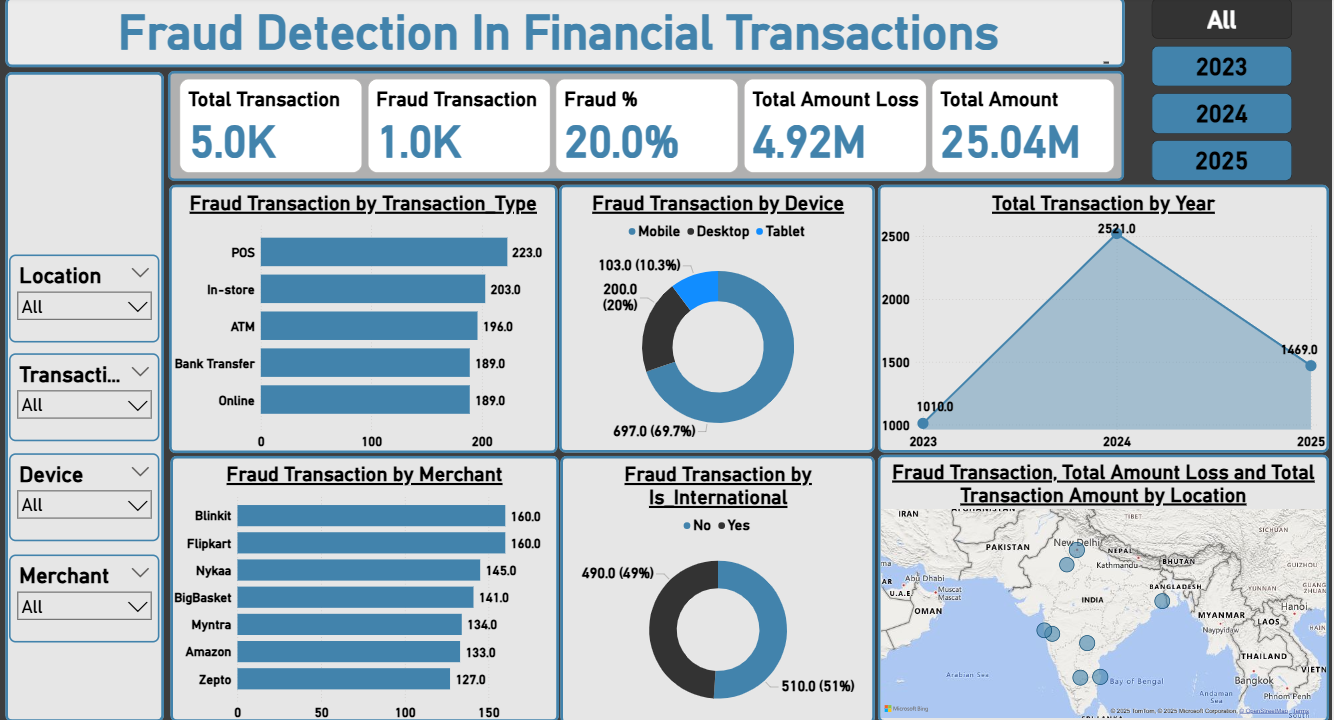

What the dashboard file says about the page in this screenshot:
{"tool":"powerbi","page":{"name":"Page 1","canvas":[2000,1100],"ordinal":0},"visuals":[{"type":"shape","box":[253.8,110.9,1434.5,165.4],"z":0},{"type":"cardVisual","fields":{"Data":["DAX_section.Total Transaction","DAX_section.Fraud Transaction","DAX_section.fraud %","DAX_section.Total Amount Loss","DAX_section.Total Transaction Amount"]},"box":[259.4,110.9,1428.8,165.4],"z":1000},{"type":"shape","box":[9.4,112.5,238.1,974.8],"z":2000},{"type":"shape","box":[254.9,281.2,583,403],"z":3000},{"type":"shape","box":[256.8,688,583,399.3],"z":4000},{"type":"shape","box":[840.4,282,473.8,402.3],"z":5000},{"type":"shape","box":[1317.9,282,676.8,402.3],"z":6000},{"type":"shape","box":[1317.9,686.2,676.8,402.3],"z":7000},{"type":"shape","box":[842.3,688.1,471.9,402.3],"z":8000},{"type":"barChart","fields":{"Category":["Fraud_detection_dataset.Transaction_Type"],"Y":["DAX_section.Fraud Transaction"]},"box":[257.6,282,579.1,402.3],"z":9000},{"type":"donutChart","fields":{"Category":["Fraud_detection_dataset.Device"],"Y":["DAX_section.Fraud Transaction"]},"box":[844.1,282,470,402.3],"z":10000},{"type":"areaChart","fields":{"Category":["Fraud_detection_dataset.Transaction_Date.Variation.Date Hierarchy.Year","Fraud_detection_dataset.Transaction_Date.Variation.Date Hierarchy.Quarter","Fraud_detection_dataset.Transaction_Date.Variation.Date Hierarchy.Month","Fraud_detection_dataset.Transaction_Date.Variation.Date Hierarchy.Day"],"Y":["DAX_section.Total Transaction"]},"box":[1317.9,282,676.8,402.3],"z":11000},{"type":"map","fields":{"Category":["Fraud_detection_dataset.Location"],"Size":["DAX_section.Fraud Transaction"]},"box":[1317.9,684.3,676.8,402.3],"z":12000},{"type":"donutChart","fields":{"Y":["DAX_section.Fraud Transaction"],"Category":["Fraud_detection_dataset.Is_International"]},"box":[844.1,688.1,470,402.3],"z":13000},{"type":"barChart","fields":{"Category":["Fraud_detection_dataset.Merchant"],"Y":["DAX_section.Fraud Transaction"]},"box":[257.6,688.1,582.8,402.3],"z":14000},{"type":"shape","box":[9.4,0,1678.9,105.3],"z":15000},{"type":"textbox","title":"Fraud Detection In Financial Transactions","box":[9.4,0,1660.1,105.3],"z":16000},{"type":"slicer","fields":{"Values":["Fraud_detection_dataset.Location"]},"box":[15,385.4,225.6,131.6],"z":17000},{"type":"slicer","fields":{"Values":["Fraud_detection_dataset.Transaction_Type"]},"box":[15,533.9,225.6,131.6],"z":18000},{"type":"slicer","fields":{"Values":["Fraud_detection_dataset.Device"]},"box":[15,684.3,225.6,131.6],"z":19000},{"type":"slicer","fields":{"Values":["Fraud_detection_dataset.Merchant"]},"box":[15,836.6,225.6,131.6],"z":20000},{"type":"bookmarkNavigator","box":[1727.9,1.9,211.9,274.1],"z":20001}]}

Visuals, with their boxes in screenshot pixels (x1, y1, x2, y2), scaled from the page's 2000x1100 canvas onto the 1334x720 screenshot:
shape: bbox(169, 73, 1126, 181)
cardVisual - DAX_section.Total Transaction x DAX_section.Fraud Transaction: bbox(173, 73, 1126, 181)
shape: bbox(6, 74, 165, 712)
shape: bbox(170, 184, 559, 448)
shape: bbox(171, 450, 560, 712)
shape: bbox(561, 185, 877, 448)
shape: bbox(879, 185, 1330, 448)
shape: bbox(879, 449, 1330, 712)
shape: bbox(562, 450, 877, 714)
barChart - Fraud_detection_dataset.Transaction_Type x DAX_section.Fraud Transaction: bbox(172, 185, 558, 448)
donutChart - Fraud_detection_dataset.Device x DAX_section.Fraud Transaction: bbox(563, 185, 877, 448)
areaChart - Fraud_detection_dataset.Transaction_Date.Variation.Date Hierarchy.Year x Fraud_detection_dataset.Transaction_Date.Variation.Date Hierarchy.Quarter: bbox(879, 185, 1330, 448)
map - Fraud_detection_dataset.Location x DAX_section.Fraud Transaction: bbox(879, 448, 1330, 711)
donutChart - DAX_section.Fraud Transaction x Fraud_detection_dataset.Is_International: bbox(563, 450, 877, 714)
barChart - Fraud_detection_dataset.Merchant x DAX_section.Fraud Transaction: bbox(172, 450, 561, 714)
shape: bbox(6, 0, 1126, 69)
"Fraud Detection In Financial Transactions" textbox: bbox(6, 0, 1114, 69)
slicer - Fraud_detection_dataset.Location: bbox(10, 252, 160, 338)
slicer - Fraud_detection_dataset.Transaction_Type: bbox(10, 349, 160, 436)
slicer - Fraud_detection_dataset.Device: bbox(10, 448, 160, 534)
slicer - Fraud_detection_dataset.Merchant: bbox(10, 548, 160, 634)
bookmarkNavigator: bbox(1153, 1, 1294, 181)
